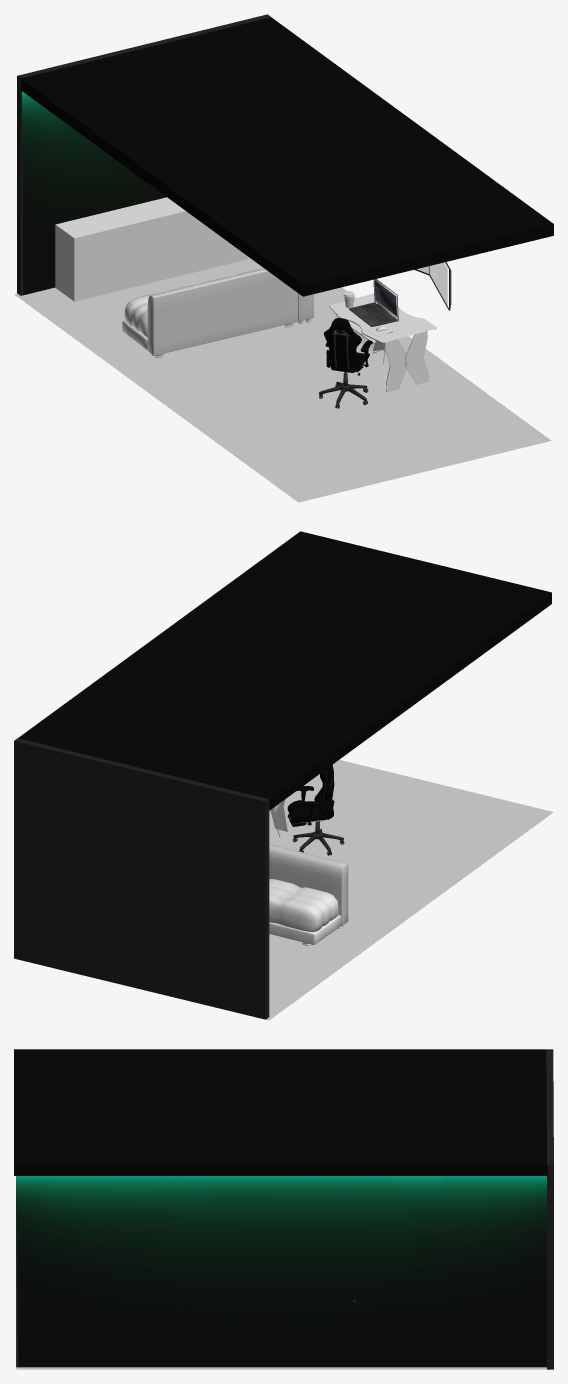
Rendered from MainSetup1.glb.
The picture shows the model from 3 angles, top to bottom: view 1: azimuth 30°, elevation 25°; view 2: azimuth 150°, elevation 25°; view 3: azimuth 270°, elevation 25°; orthographic projection. The views are drawn at different scales.
Parts seen in each view (by area): view 1: Cube.002, Plane, Cube, Plane.005, Circle.009, Cube.001, Cube.013, Object_5, Circle.010, Plane.016, Object_6; view 2: Cube.002, Cube.013, Plane, Circle.009, Circle.010, Object_5, Circle.007; view 3: Plane.004, Cube.002, Cube.013, Plane.
Boxes of the visible parts, left/top/right/bottom form: Cube.002: left=21, top=17, right=553, bottom=296; Plane: left=14, top=256, right=551, bottom=502; Cube: left=55, top=197, right=247, bottom=301; Plane.005: left=22, top=91, right=166, bottom=295; Circle.009: left=147, top=268, right=298, bottom=357; Cube.001: left=329, top=279, right=436, bottom=392; Cube.013: left=17, top=14, right=270, bottom=295; Object_5: left=324, top=318, right=372, bottom=375; Circle.010: left=124, top=269, right=259, bottom=337; Plane.016: left=429, top=262, right=451, bottom=310; Object_6: left=319, top=329, right=368, bottom=408; Cube.002: left=18, top=531, right=551, bottom=810; Cube.013: left=14, top=738, right=269, bottom=1019; Plane: left=219, top=759, right=553, bottom=1020; Circle.009: left=269, top=844, right=348, bottom=928; Circle.010: left=269, top=879, right=338, bottom=931; Object_5: left=287, top=765, right=334, bottom=826; Circle.007: left=269, top=914, right=341, bottom=945; Plane.004: left=16, top=1176, right=546, bottom=1367; Cube.002: left=14, top=1049, right=547, bottom=1175; Cube.013: left=546, top=1049, right=553, bottom=1369; Plane: left=16, top=1367, right=546, bottom=1369.
Bounding box in the file's own units: 6.02 × 4.94 × 11.74.
Materials: 47 (13 with a texture image).
